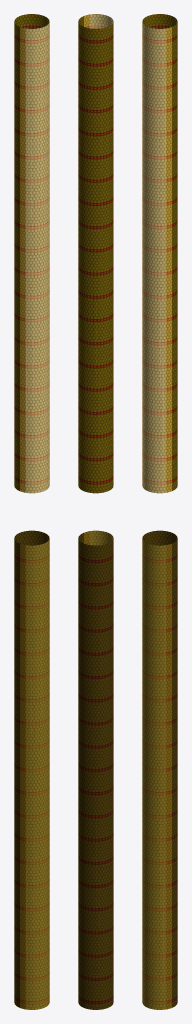
The model's file is Extension Shaded.dae.
The picture shows the model from 3 angles, left to right: view 1: azimuth 30°, elevation 25°; view 2: azimuth 150°, elevation 25°; view 3: azimuth 330°, elevation 25°; orthographic projection.
Visible parts, largest first — view 1: Wall, DarkWall, DarkWall.1, Wall.1, DarkWall.2, Wall.2; view 2: Wall.2, DarkWall.2, Wall.1, DarkWall.1, DarkWall, Wall; view 3: Wall, DarkWall, DarkWall.1, Wall.1, DarkWall.2, Wall.2.
Part boxes in pixels (bbox=[...]): Wall: bbox=[25, 23, 49, 493]; DarkWall: bbox=[25, 540, 49, 1009]; DarkWall.1: bbox=[20, 536, 49, 1009]; Wall.1: bbox=[20, 20, 49, 492]; DarkWall.2: bbox=[14, 530, 48, 1007]; Wall.2: bbox=[14, 14, 48, 490]; Wall.2: bbox=[78, 16, 112, 493]; DarkWall.2: bbox=[78, 533, 112, 1009]; Wall.1: bbox=[84, 14, 113, 487]; DarkWall.1: bbox=[84, 531, 113, 1003]; DarkWall: bbox=[89, 530, 113, 545]; Wall: bbox=[89, 14, 113, 28]; Wall: bbox=[142, 23, 166, 493]; DarkWall: bbox=[142, 540, 166, 1009]; DarkWall.1: bbox=[142, 536, 171, 1009]; Wall.1: bbox=[142, 20, 171, 492]; DarkWall.2: bbox=[143, 530, 177, 1007]; Wall.2: bbox=[143, 14, 177, 490].
Bounding box in the file's own units: 1095 × 33800 × 1095.
Materials: 6 (6 with a texture image).
